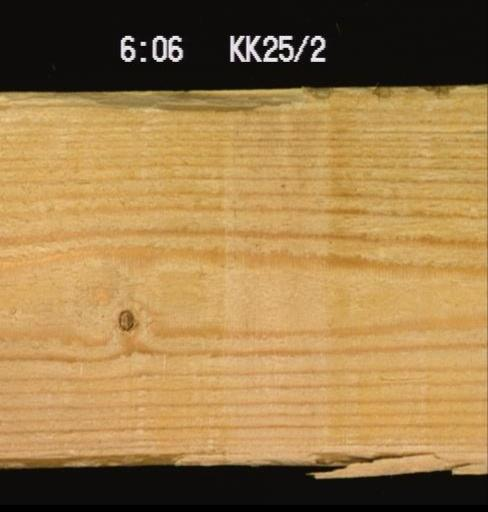dry_knot: (114, 304, 133, 330)
wave: (0, 89, 328, 112), (0, 437, 240, 465), (303, 437, 486, 463)
